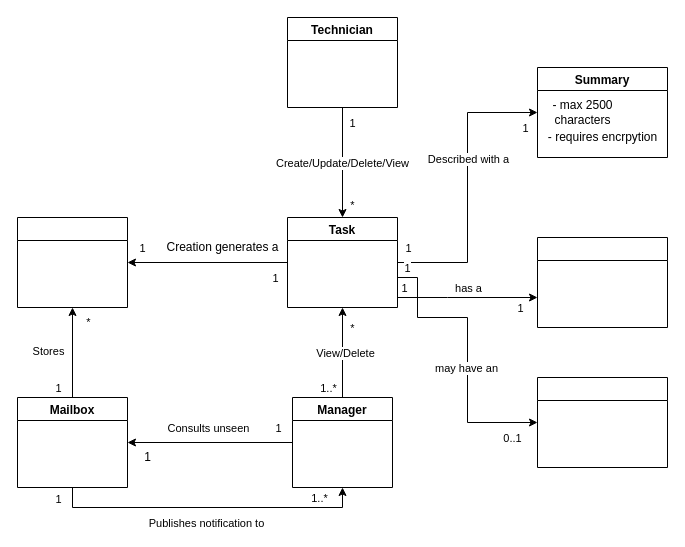
Image size: 685x547. Some labels were removed from this diagram. Here are the shapes that lost their labels. From the top down, the centre of each, then its label:
the point at 72,262: Notification
the point at 602,282: Creation Date
the point at 602,422: Update Date
